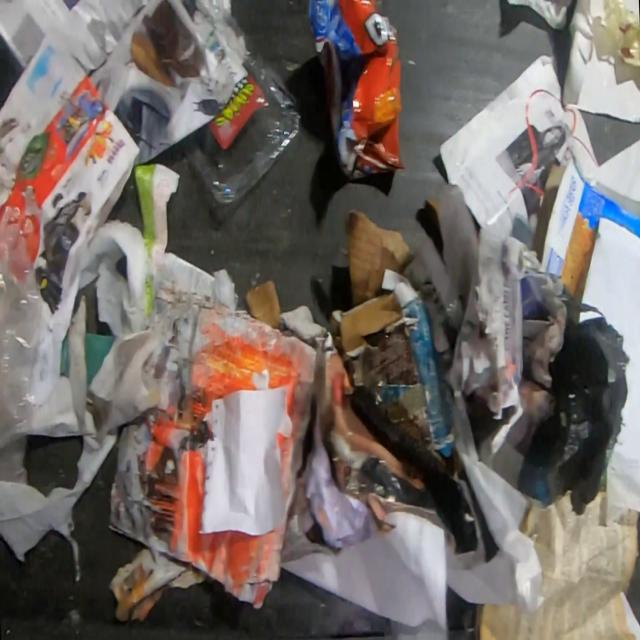cardboard: (329, 209, 466, 476), (532, 158, 640, 304), (244, 280, 285, 332)
rigid_plastic: (177, 0, 303, 206)
soft_plastic: (306, 0, 406, 182), (0, 215, 59, 452)
